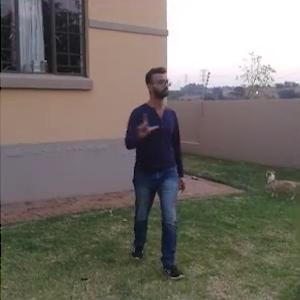land_hand: (133, 107, 161, 143)
